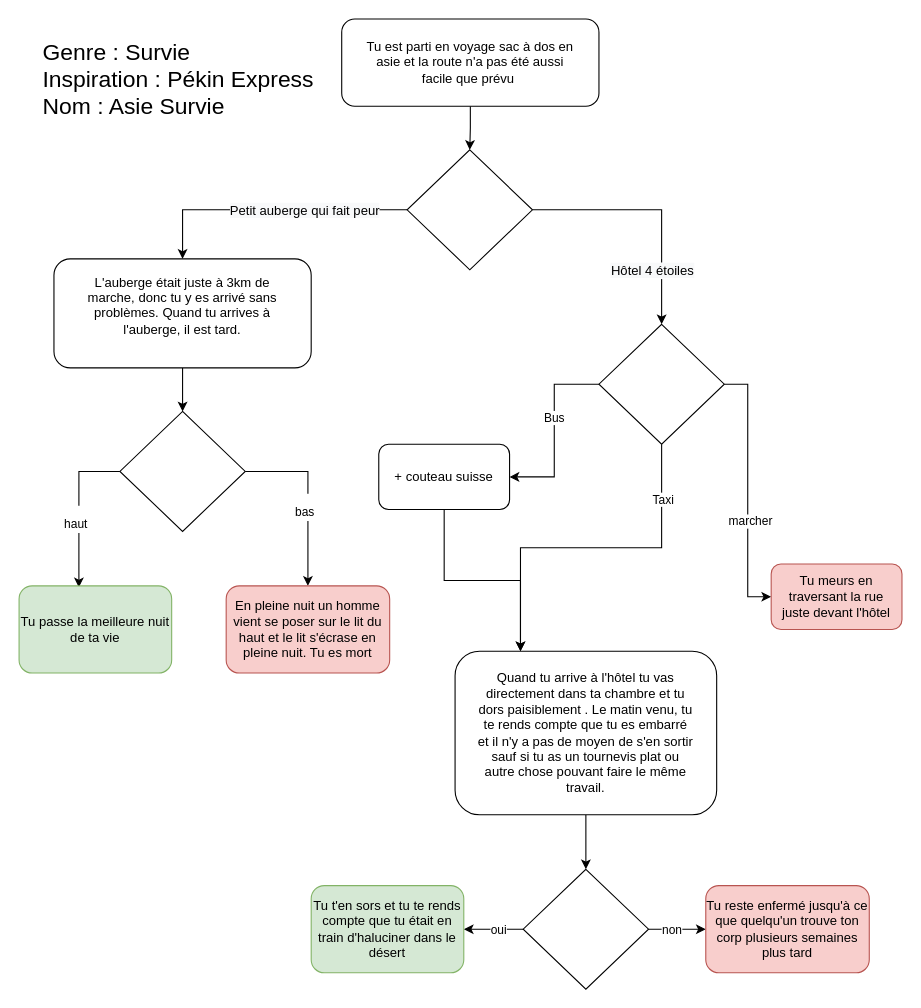
This 921x1008 diagram has some shape labels left out. The shapes that lost their labels are listed below. From the top down, each one's centre as x and y in pixels, then its label:
At [469,209]: "Tu te demande ou dormir cette nuit".
At [661,383]: "Comment s'y rendre".
At [182,470]: "Choisir un lit".
At [585,928]: "As-tu le couteau suisse ?".
